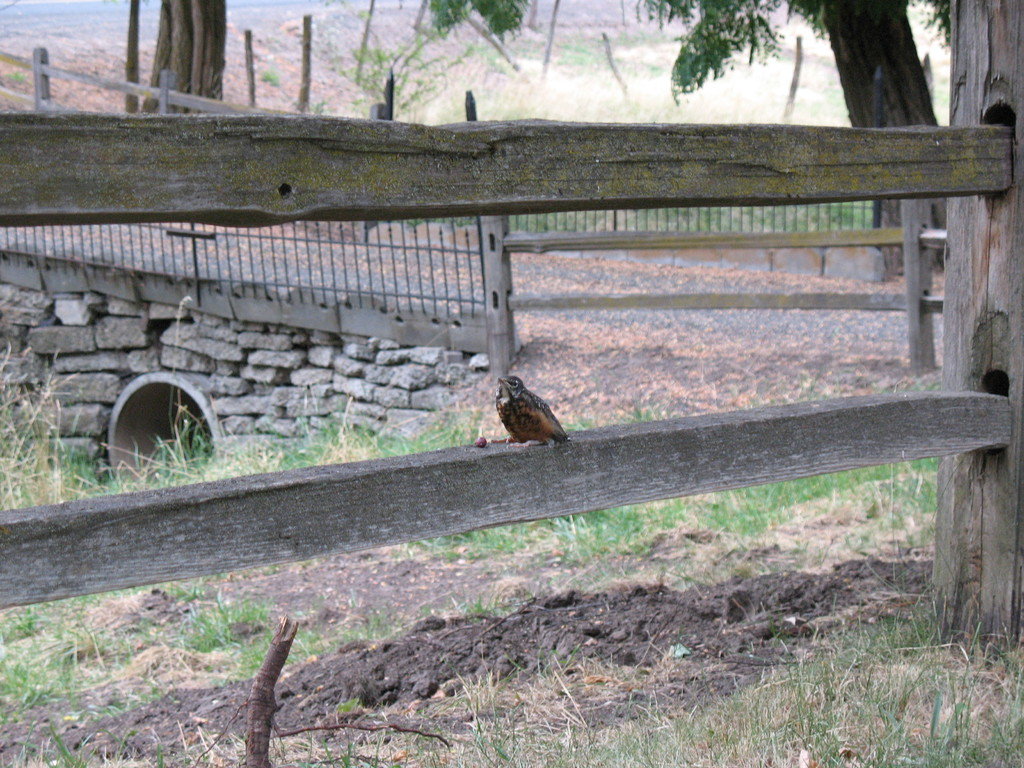Tree: (631, 0, 951, 283), (131, 0, 227, 113)
